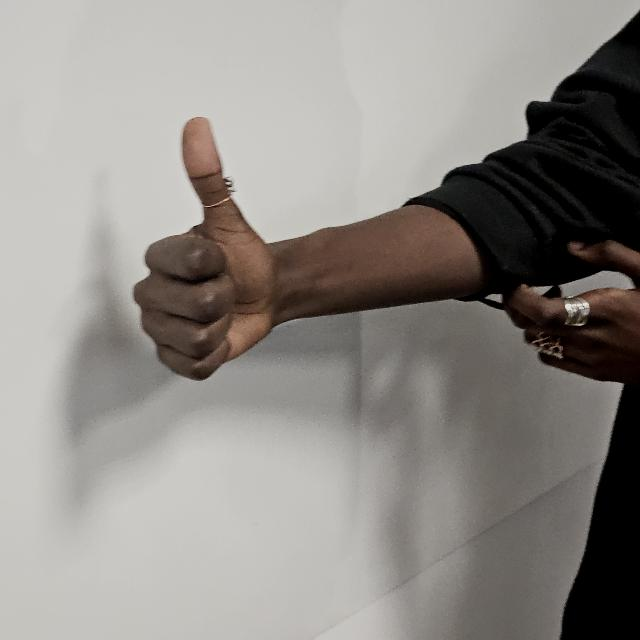Start: (128, 113, 338, 409)
